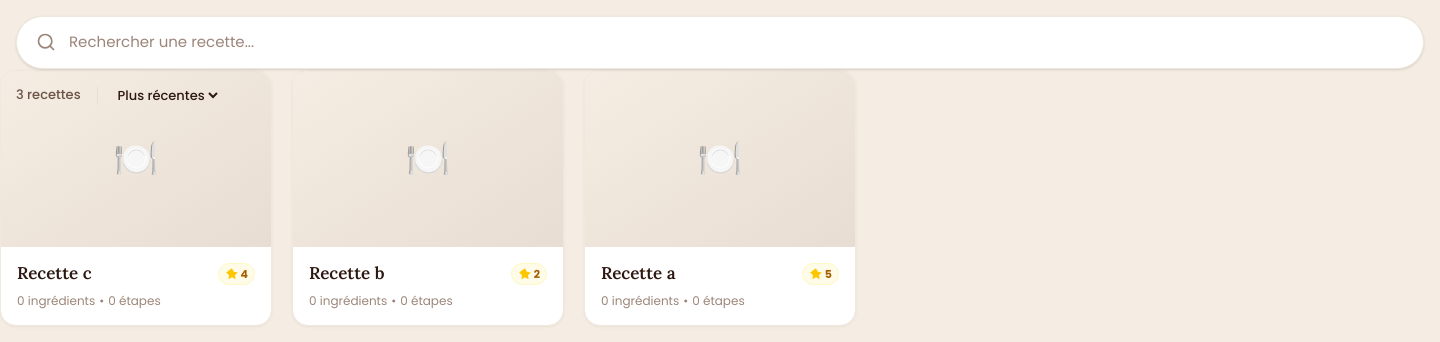
Test: RecipeFilters sorting › filtre les recettes par recherche textuelle
In the field with placeholder "Rechercher une recette...": (720, 42) [16,16,1424,68], type "Recette A"
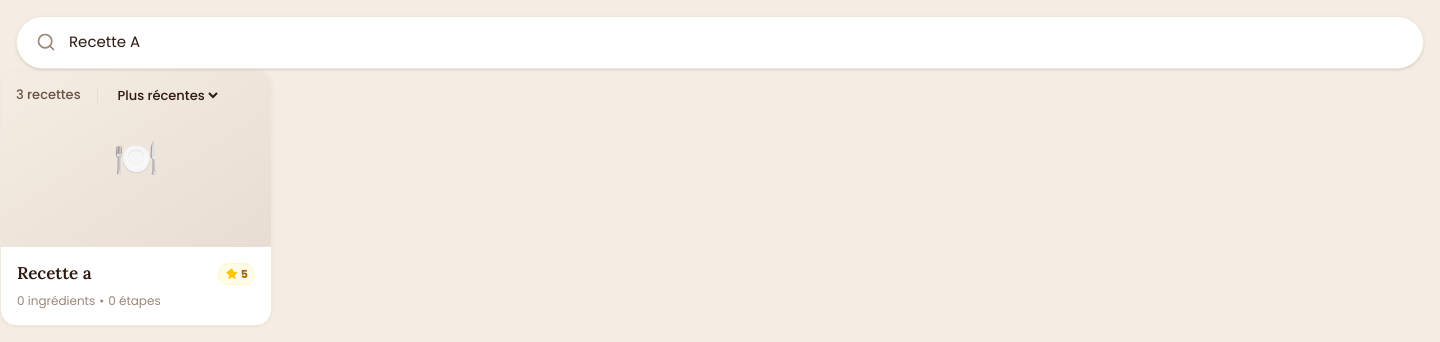
Now the headings read "Recette a", in this order, box [17,262,92,284]
Now the link "Recette b" no longer shows "Recette b"
